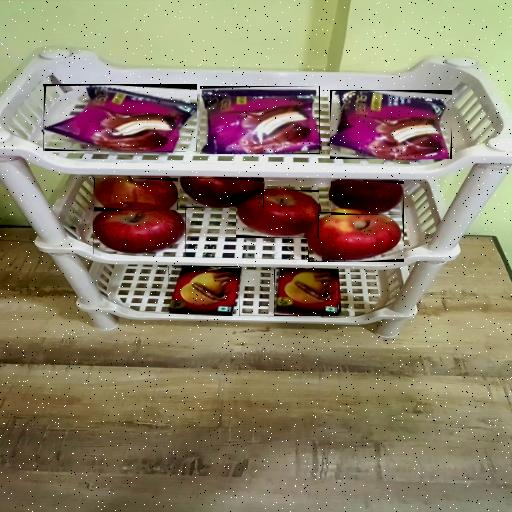Apple: (308, 212, 404, 262), (93, 204, 186, 254), (236, 190, 319, 238), (94, 178, 178, 210), (180, 178, 264, 208), (331, 181, 404, 215)
Choco Fills: (168, 266, 240, 316), (274, 269, 338, 316)
Choco Pie: (42, 84, 196, 151), (330, 90, 452, 159), (200, 86, 320, 154)
